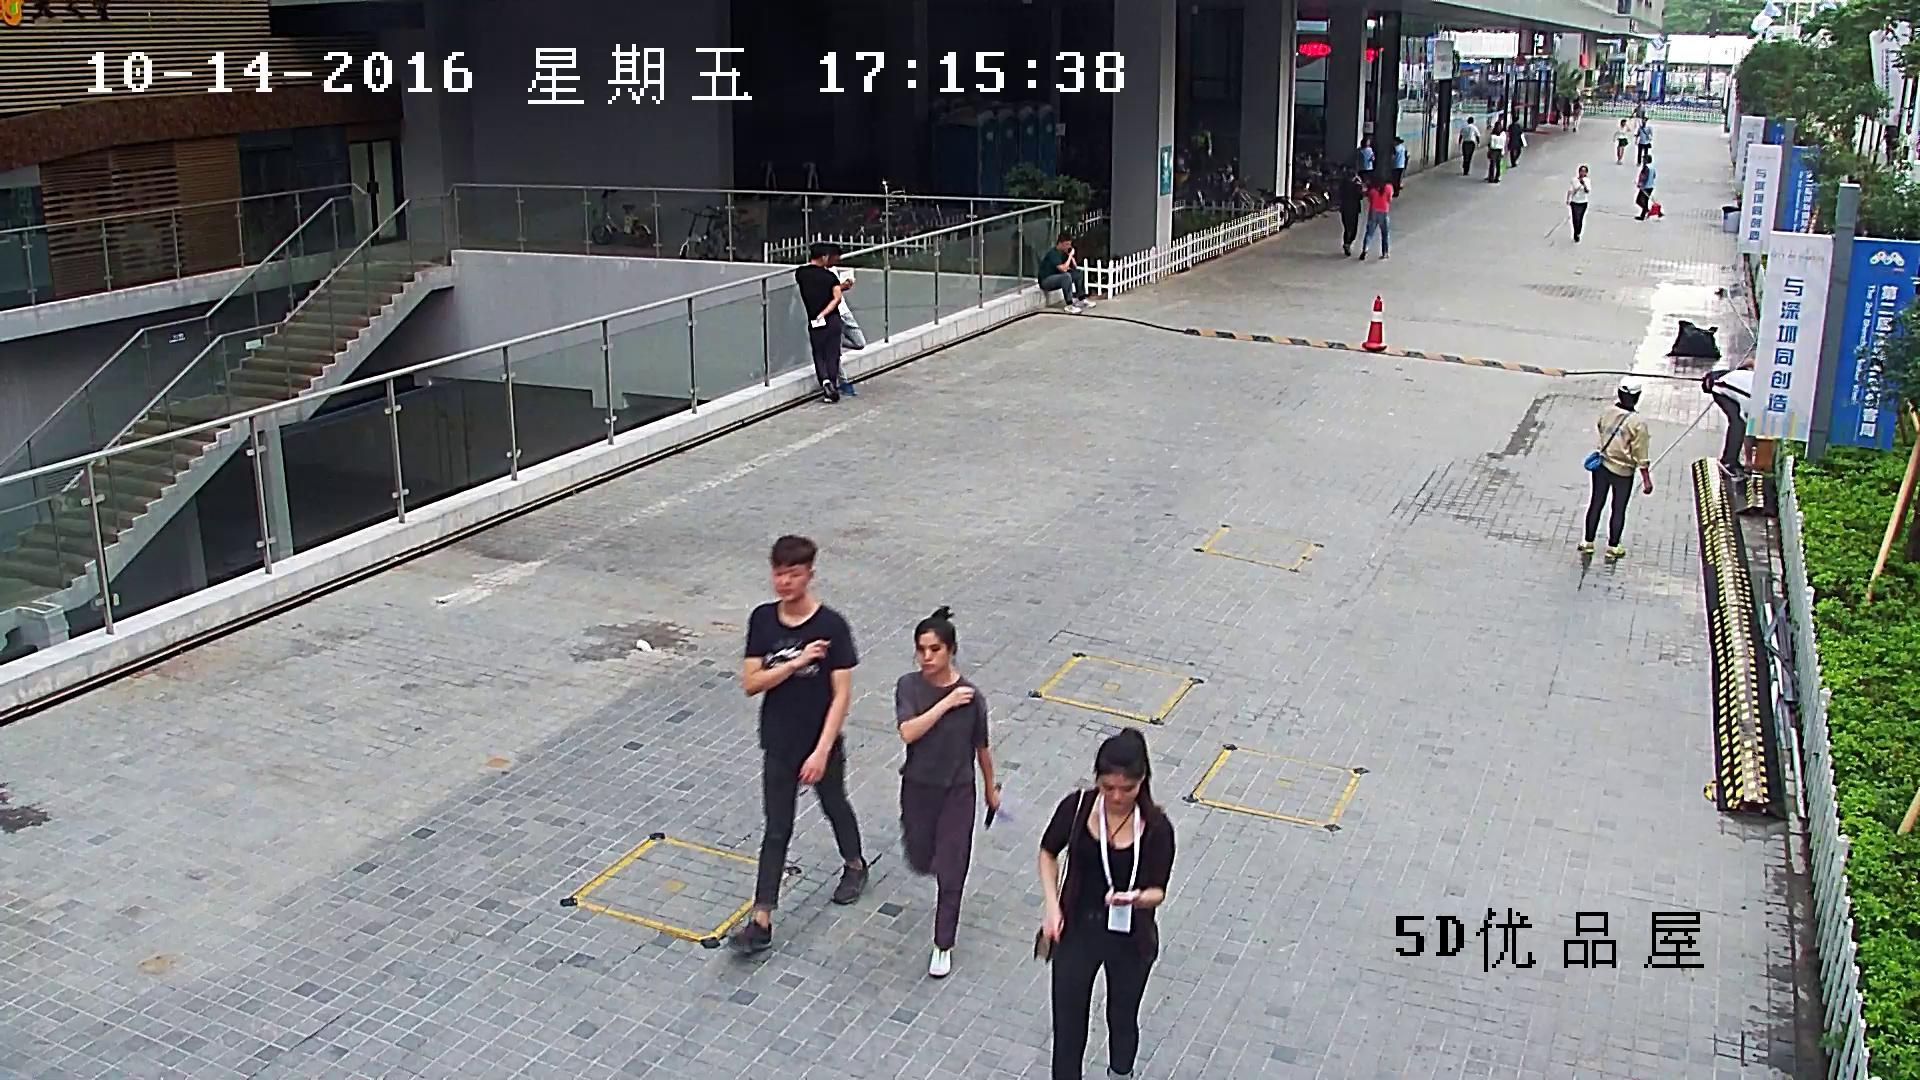person: (726, 533, 868, 954), (1031, 728, 1176, 1080), (895, 605, 1001, 978), (1575, 379, 1653, 563), (795, 242, 841, 401), (825, 242, 866, 396), (1702, 367, 1755, 477), (1038, 231, 1096, 314), (1360, 170, 1394, 261), (996, 231, 1034, 291), (1338, 169, 1362, 256), (1634, 154, 1664, 220), (1565, 165, 1590, 241), (1634, 155, 1655, 220), (1485, 120, 1506, 183), (1458, 116, 1480, 176), (1390, 136, 1408, 199), (1356, 137, 1375, 195), (1508, 116, 1527, 167), (1635, 116, 1653, 166), (1612, 119, 1631, 165), (1630, 98, 1646, 139), (1496, 93, 1505, 123), (1562, 97, 1571, 130), (1573, 99, 1581, 131)
